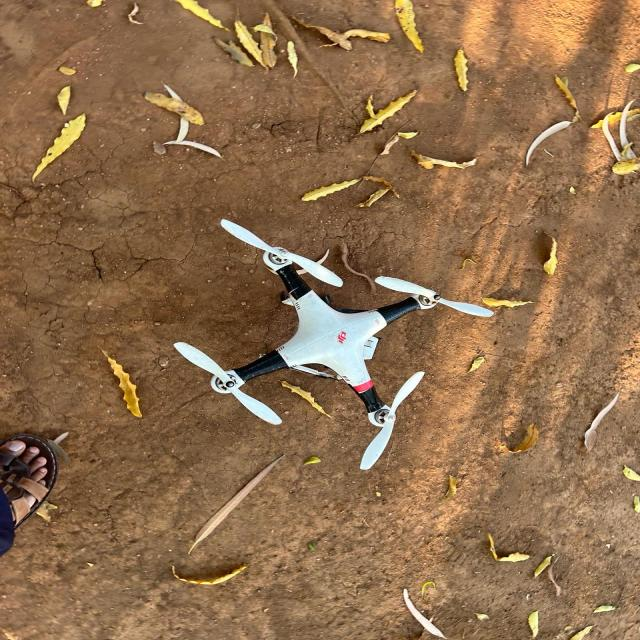drone: (138, 164, 531, 504)
